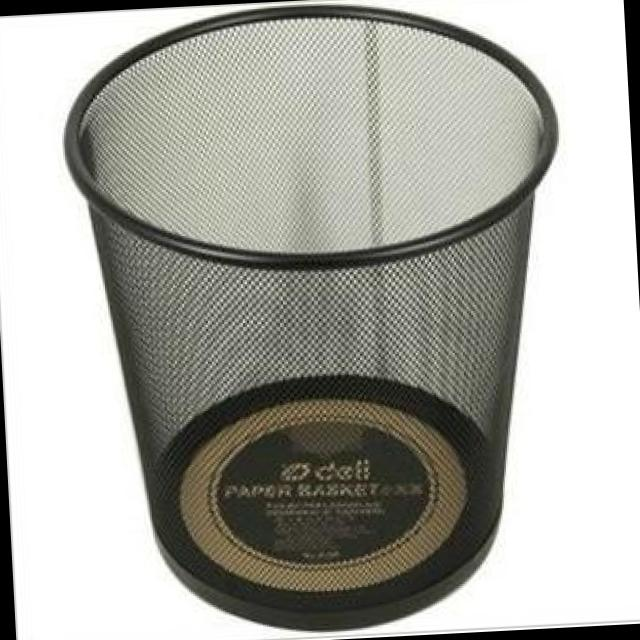dustbin: (49, 0, 596, 640)
